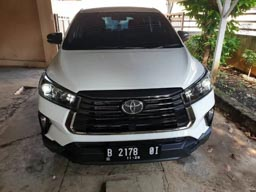plat: (105, 143, 165, 155)
